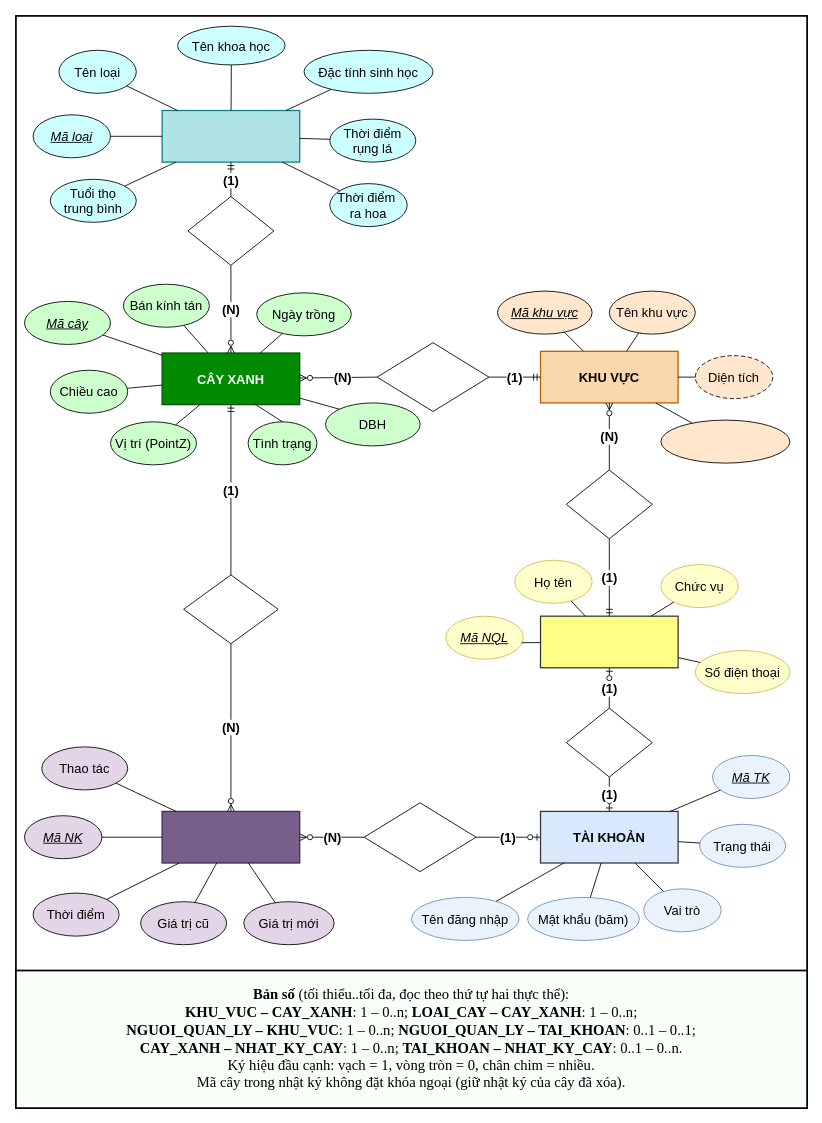
Image size: 822x1123. Some labels were removed from this diagram. The centre of each missing label's shape, as x and y in pixels:
"Ghi nhận" belongs at pixel 230 609.
"LOẠI CÂY" belongs at pixel 230 135.
"NGƯỜI QUẢN LÝ" belongs at pixel 608 641.
"NHẬT KÝ" belongs at pixel 230 836.
"Nằm trong" belongs at pixel 432 377.
"Phụ trách" belongs at pixel 608 504.
"Ranh giới (Polygon)" belongs at pixel 725 441.
"Sở hữu" belongs at pixel 608 742.
"Thuộc" belongs at pixel 230 230.
"Thực hiện" belongs at pixel 419 837.
